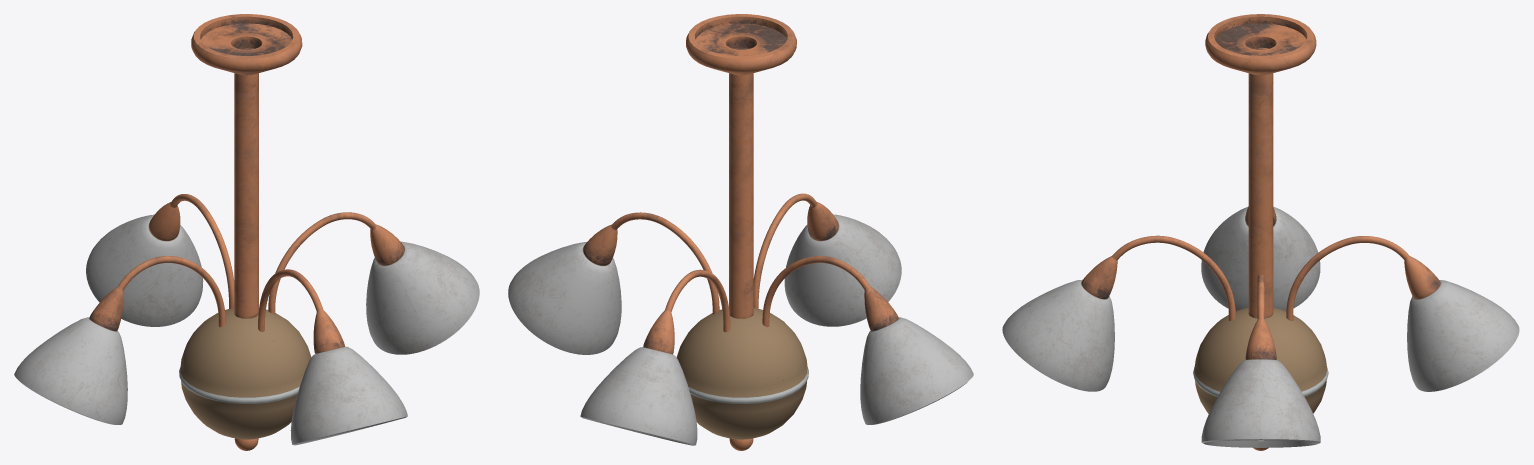
The model's file is chandelier.glb.
3 renders of one model, left to right at view 1: azimuth 30°, elevation 25°; view 2: azimuth 150°, elevation 25°; view 3: azimuth 270°, elevation 25°, orthographic.
Parts seen in each view (by area): view 1: _low; view 2: _low; view 3: _low.
Boxes of the visible parts, x1,y1,x2,y2 form: _low: [14, 14, 479, 450]; _low: [508, 14, 973, 450]; _low: [1002, 14, 1519, 450].
Size of the model in its own units: 2.29 by 2.02 by 2.29.
Materials: 8 (8 with a texture image).
